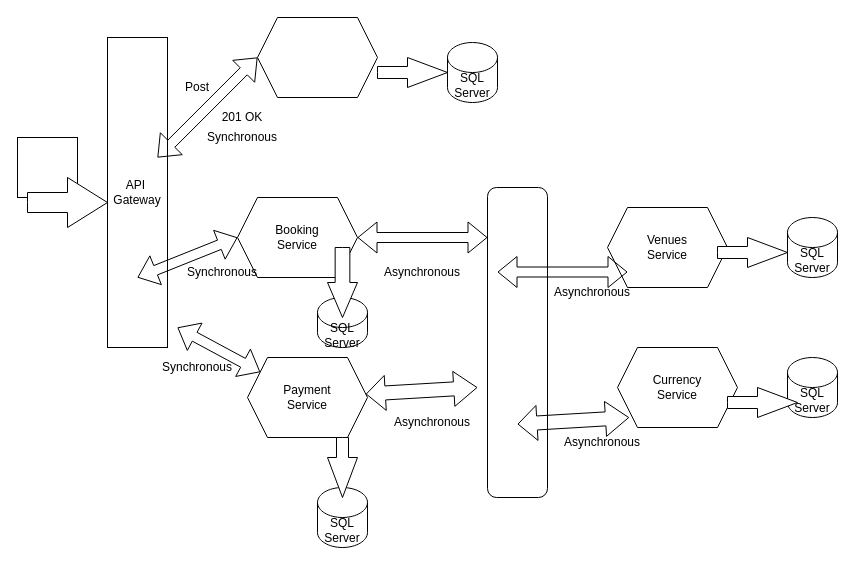
This 855x565 diagram has some shape labels left out. The shapes that lost their labels are listed below. From the top down, each one's centre as x and y in pixels, then its label:
point 317,57: Login Service
point 47,167: web app front end
point 517,342: Rabbit MQ
